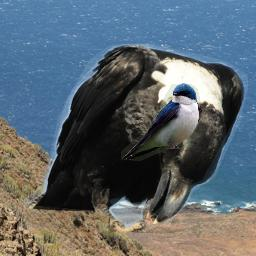Crow: (24, 40, 248, 239)
Swallow: (121, 83, 202, 161)
